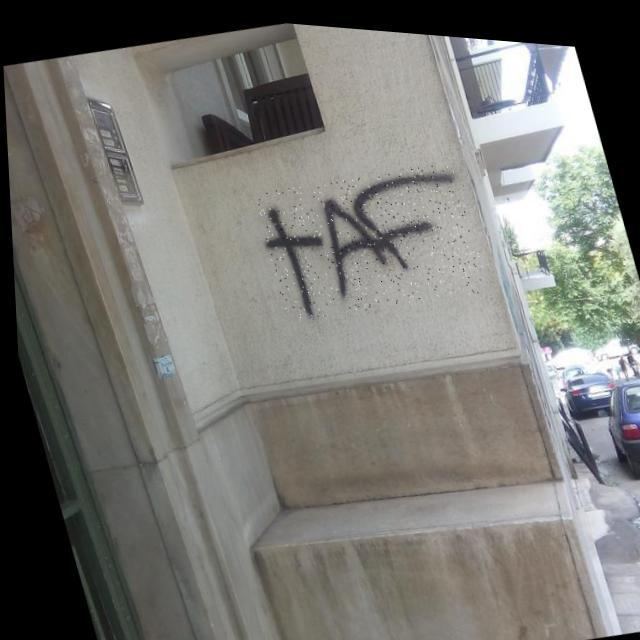-: (248, 141, 489, 330)
